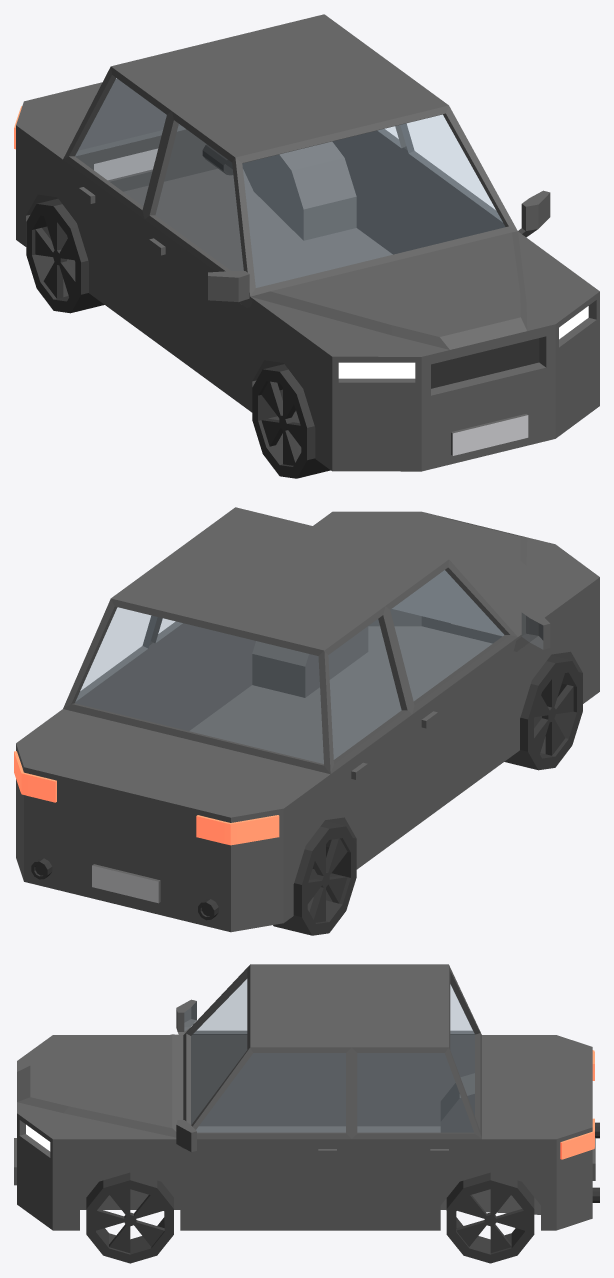
File: sedan.glb
3 views of the same model, one above another, from view 1: azimuth 30°, elevation 25°; view 2: azimuth 150°, elevation 25°; view 3: azimuth 270°, elevation 25° (orthographic). The views are drawn at different scales.
Parts seen in each view (by area): view 1: Sedan, Sedan wheel front right, Sedan wheel rear right; view 2: Sedan, Sedan wheel rear right, Sedan wheel front right; view 3: Sedan, Sedan wheel rear left, Sedan wheel front left.
Part boxes in pixels (box(x1,y1,x2,y2)): Sedan: box(14, 14, 599, 471); Sedan wheel front right: box(252, 364, 330, 478); Sedan wheel rear right: box(26, 198, 104, 313); Sedan: box(14, 507, 599, 932); Sedan wheel rear right: box(273, 821, 356, 935); Sedan wheel front right: box(504, 655, 582, 770); Sedan: box(14, 964, 599, 1230); Sedan wheel rear left: box(446, 1172, 534, 1263); Sedan wheel front left: box(86, 1172, 173, 1263).
Bounding box in the file's own units: 2.81 × 2.01 × 5.23.
